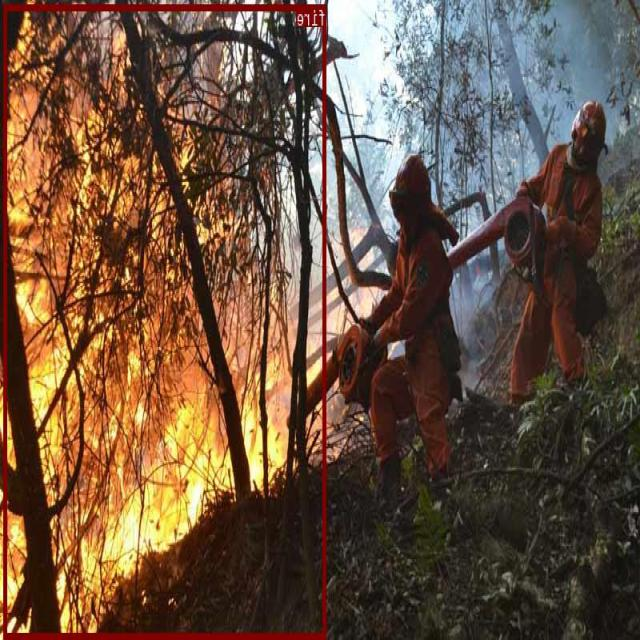fire: (5, 4, 326, 637)
